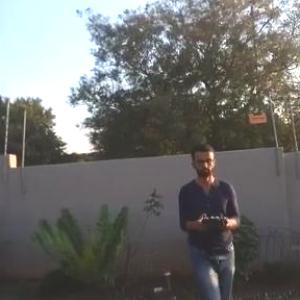follow: (172, 149, 245, 299)
